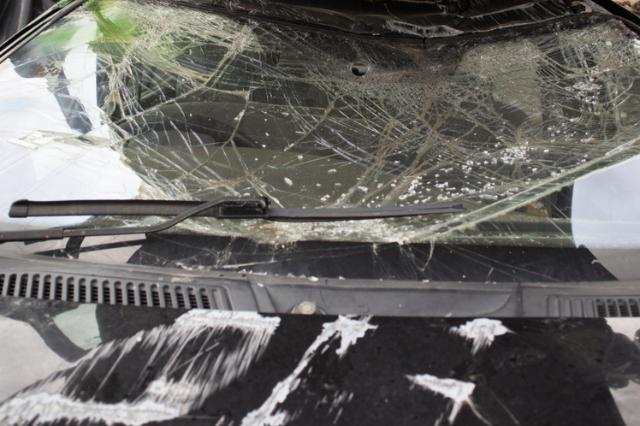Bonnet: (0, 289, 640, 426)
Windshield: (0, 0, 640, 247)
